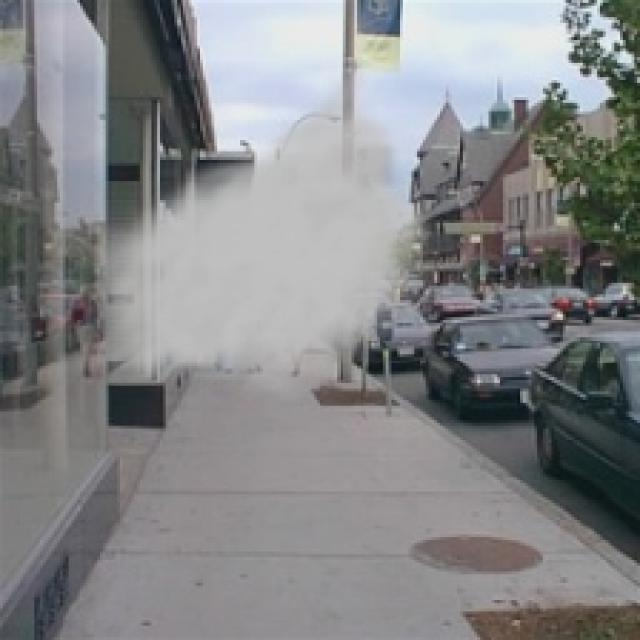smoke: (71, 43, 443, 403)
